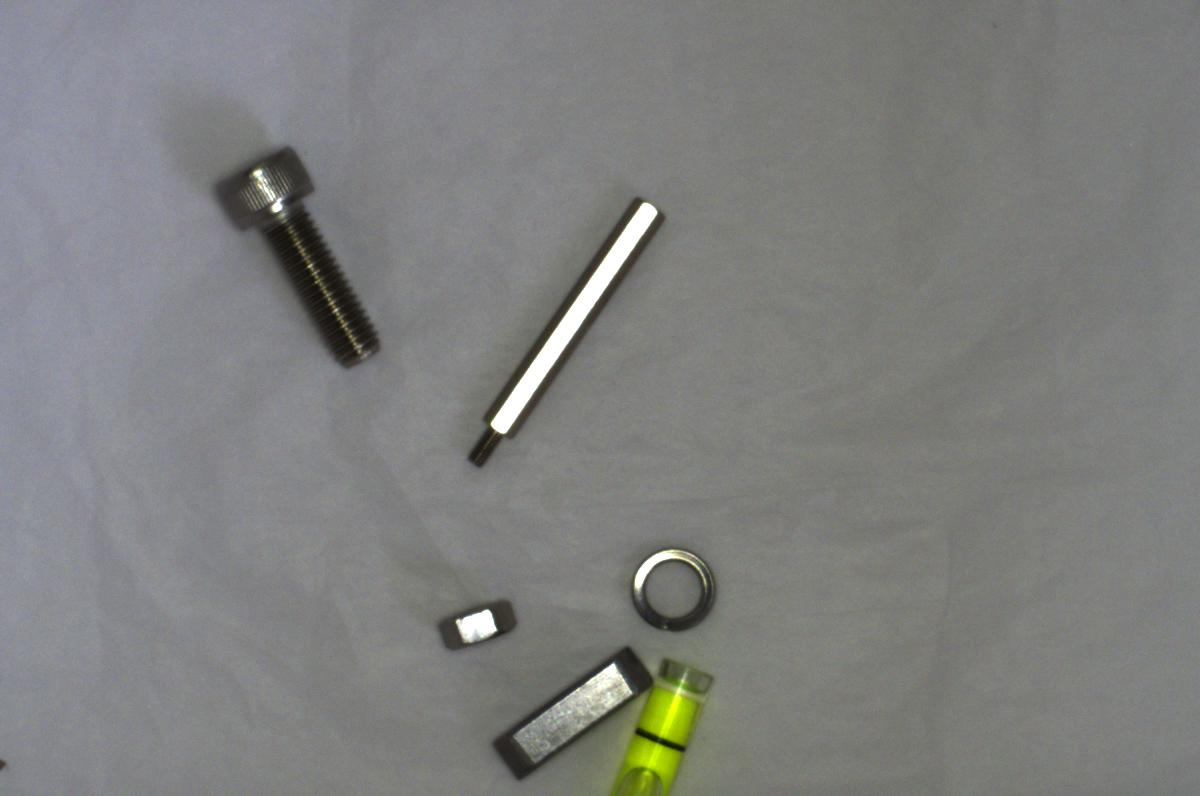Hexagon nut: (418, 589, 524, 652)
Hexagon screw: (212, 147, 380, 367)
Hexagonal steel column: (454, 190, 662, 472)
Horizontal bubble: (608, 655, 716, 795)
Keybar: (498, 641, 650, 783)
Spring washer: (621, 533, 726, 635)
